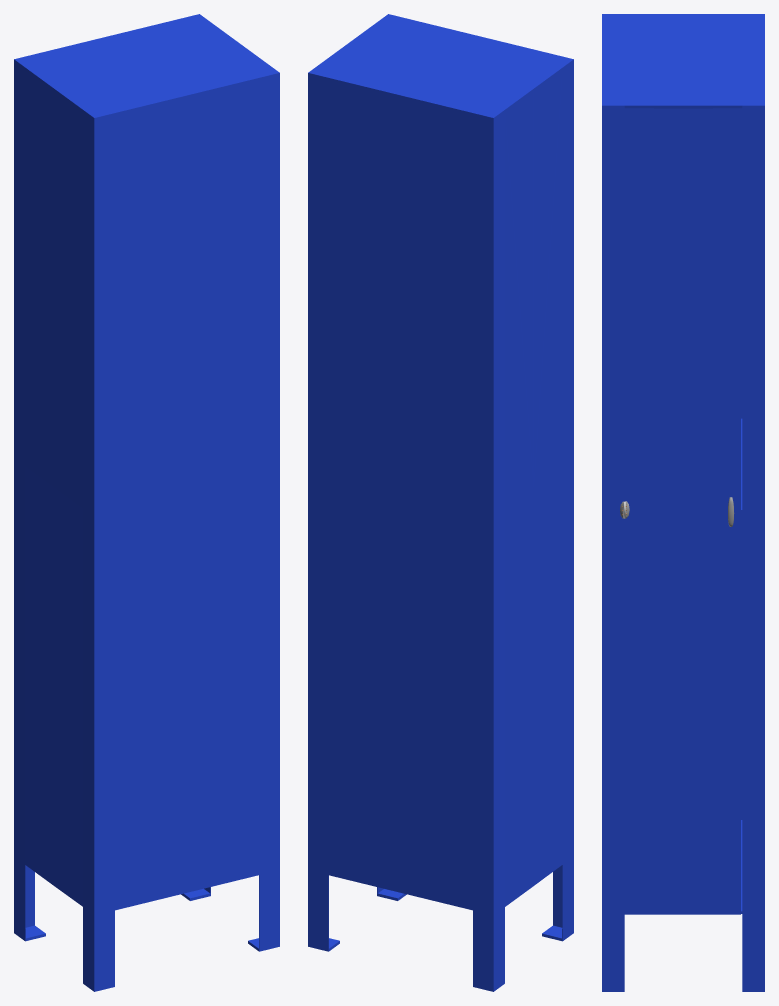
Rendered from locker.fbx.
3 views of the same model, side by side, from view 1: azimuth 30°, elevation 25°; view 2: azimuth 150°, elevation 25°; view 3: azimuth 270°, elevation 25° (orthographic).
Visible parts, largest first — view 1: Locker.001; view 2: Locker.001; view 3: Locker Door.001, Locker.001.
Boxes of the visible parts, <box> form: Locker.001: <box>14,14,279,991</box>; Locker.001: <box>308,14,573,991</box>; Locker Door.001: <box>624,108,740,914</box>; Locker.001: <box>602,14,764,991</box>.
Bounding box in the file's own units: 41.23 × 183 × 30.48.
